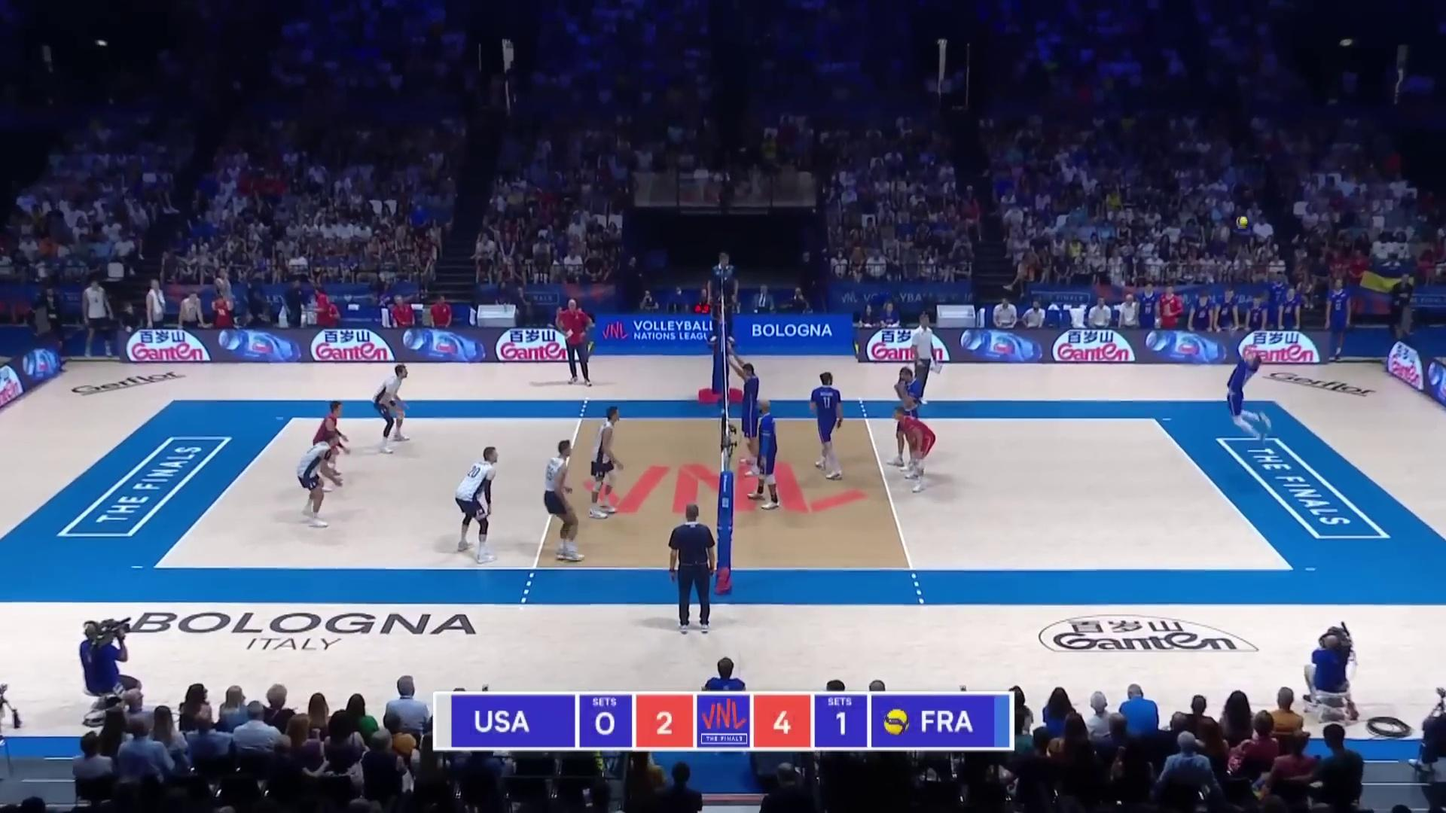player: (454, 447, 501, 563), (543, 440, 585, 563), (1226, 347, 1274, 446), (300, 433, 345, 531), (747, 399, 785, 512), (588, 408, 624, 520), (892, 408, 937, 493), (372, 362, 413, 455), (810, 373, 844, 482), (889, 367, 924, 469), (310, 403, 351, 486), (735, 361, 763, 475)
refree: (665, 506, 714, 635), (707, 255, 737, 342)
